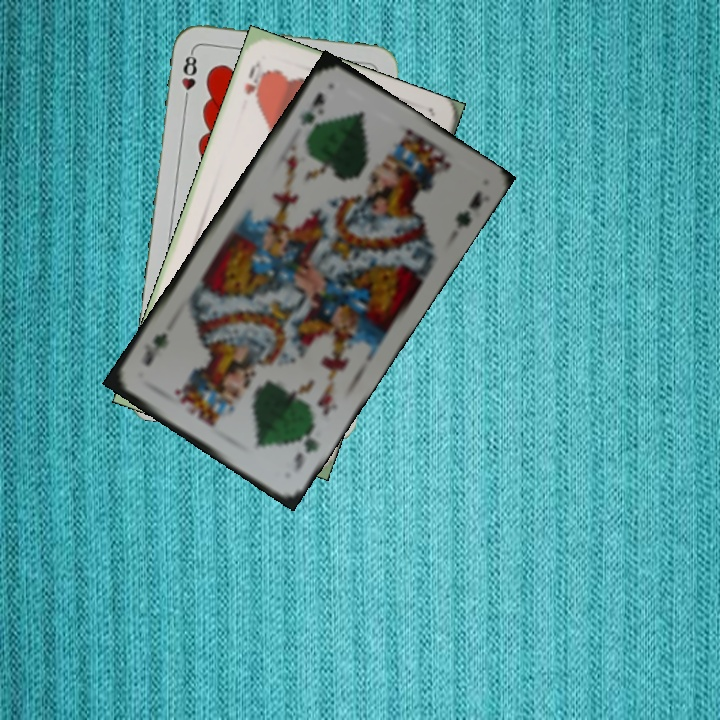GK: (289, 421, 322, 476), (294, 89, 328, 128)
H8: (178, 47, 200, 106)
HO: (240, 57, 270, 107)
